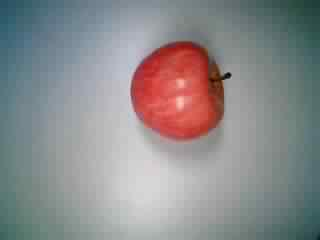apple: (128, 41, 233, 143)
